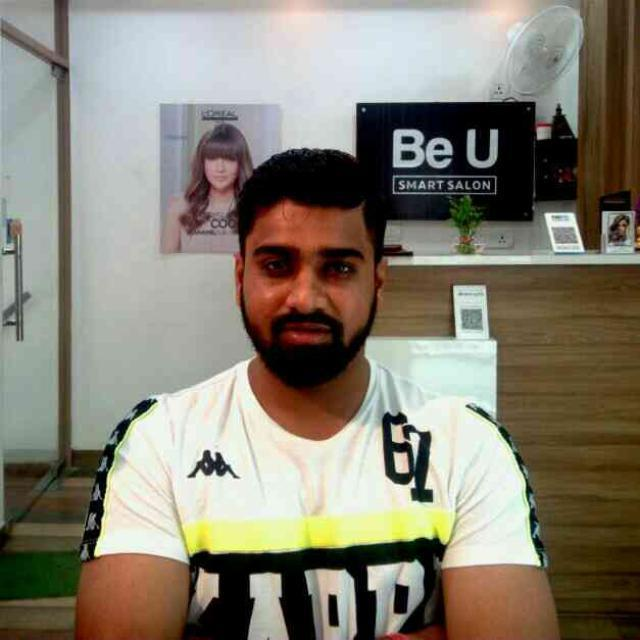puffy_eyes: (261, 269, 292, 284), (325, 273, 354, 285)
